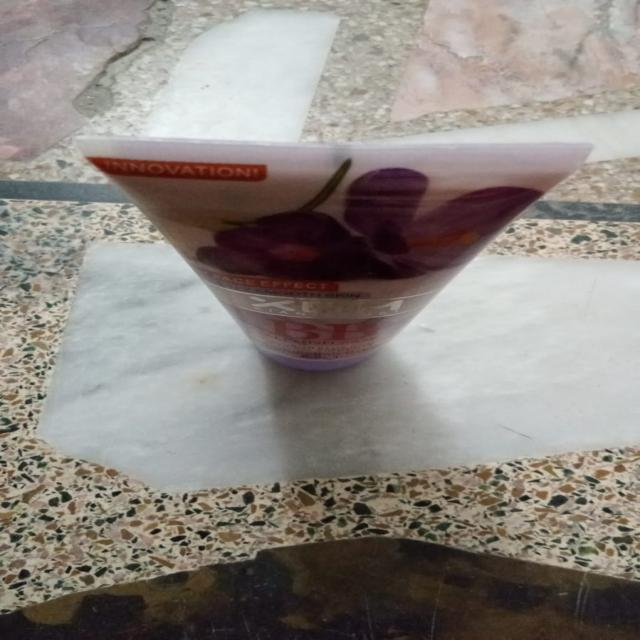lotion: (59, 114, 613, 388)
